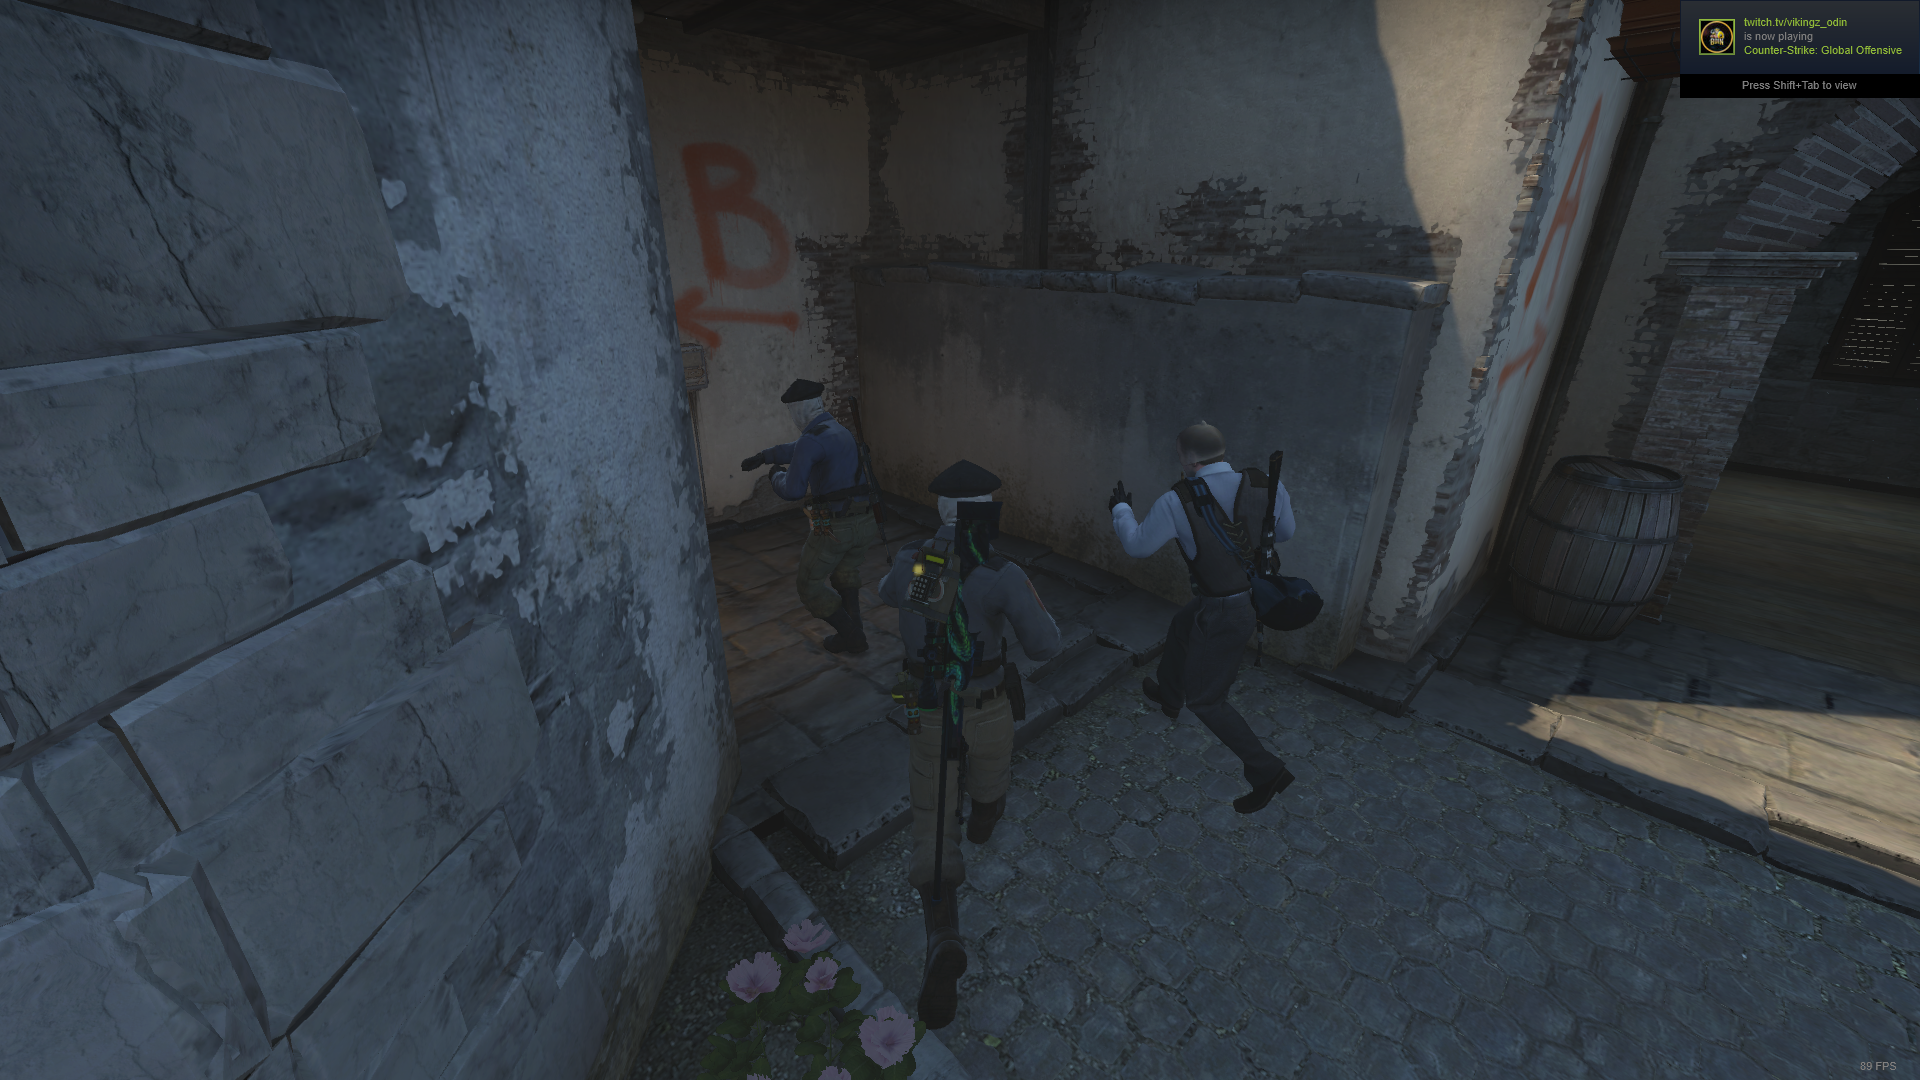t: (876, 458, 1069, 1038), (746, 373, 895, 665)
